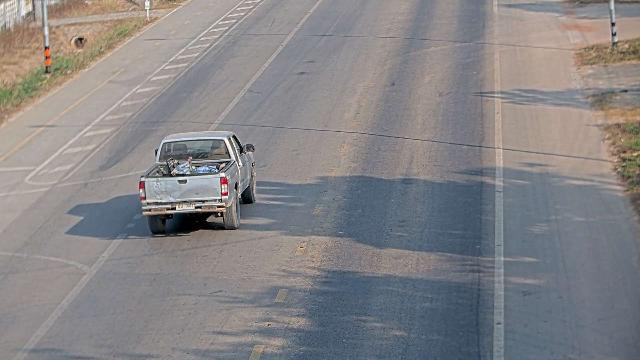pickup-truck: (138, 130, 257, 234)
